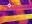Hotspot: (0, 13, 31, 23), (11, 0, 20, 4), (0, 5, 3, 11)
